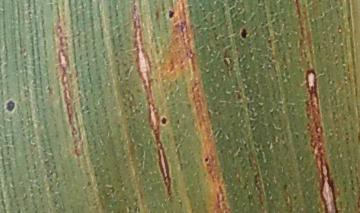tarspot: (6, 100, 16, 114), (239, 27, 248, 40), (167, 9, 175, 20), (160, 116, 167, 126), (203, 156, 210, 163)
